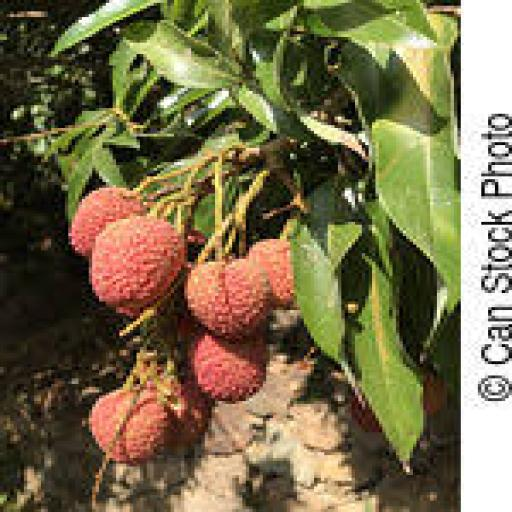lychee: (89, 217, 184, 315), (185, 259, 269, 338), (89, 387, 174, 463), (188, 333, 269, 403), (69, 185, 146, 258), (250, 239, 293, 307), (171, 379, 211, 449), (349, 393, 382, 432), (424, 373, 447, 415)
